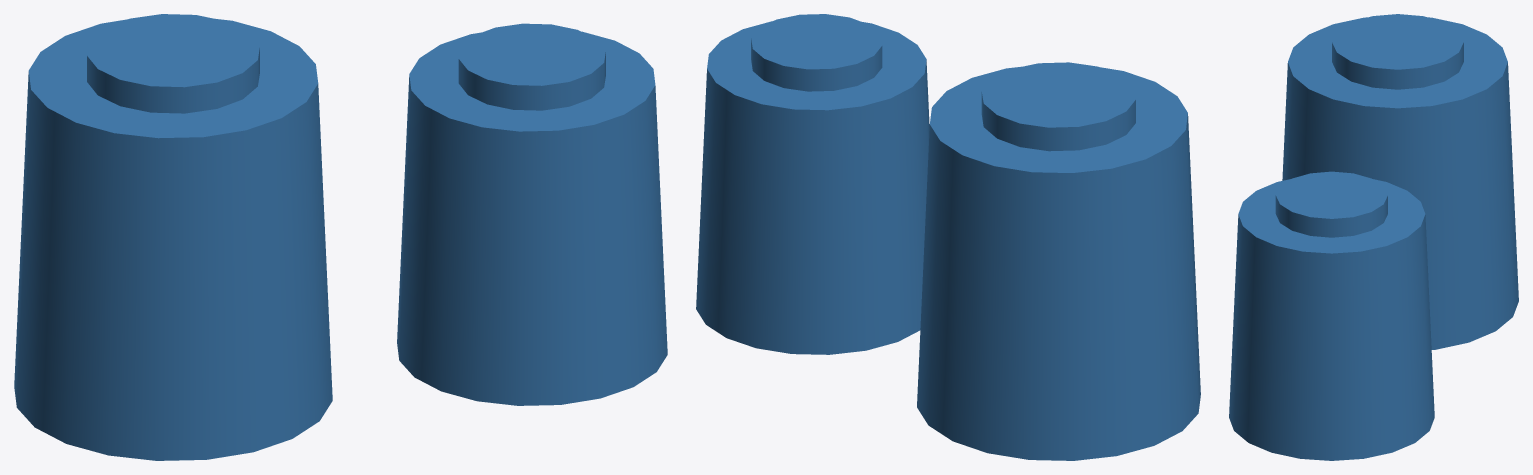
Rendered from tanques_de_agua.fbx.
3 renders of one model, left to right at view 1: azimuth 30°, elevation 25°; view 2: azimuth 150°, elevation 25°; view 3: azimuth 270°, elevation 25°, orthographic. The views are drawn at different scales.
Visible parts, largest first — view 1: tank, tank_03, tank_02, tank_04; view 2: tank, tank_03, tank_02, tank_04; view 3: tank_03, tank, tank_02, tank_04.
Part boxes in pixels (bbox=[...]): tank: bbox=[14, 18, 332, 460]; tank_03: bbox=[397, 31, 667, 405]; tank_02: bbox=[87, 14, 259, 113]; tank_04: bbox=[458, 23, 605, 110]; tank: bbox=[917, 66, 1200, 460]; tank_03: bbox=[696, 21, 929, 354]; tank_02: bbox=[981, 62, 1135, 151]; tank_04: bbox=[751, 14, 882, 91]; tank_03: bbox=[1229, 179, 1434, 460]; tank: bbox=[1282, 17, 1518, 349]; tank_02: bbox=[1332, 14, 1463, 89]; tank_04: bbox=[1275, 171, 1387, 237].
Bounding box in the file's own units: 2.27 × 1.3 × 1.32.
